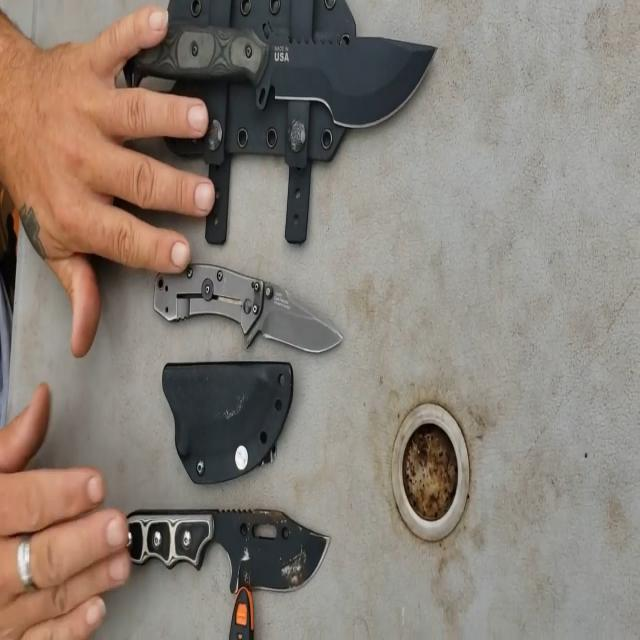knife: (115, 6, 451, 148), (112, 486, 336, 592), (152, 258, 349, 378)
